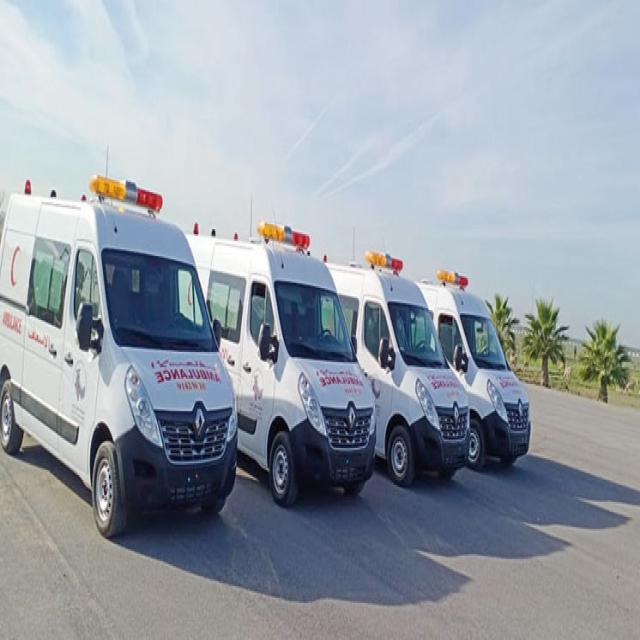ambulance: (0, 166, 241, 552), (184, 190, 383, 526), (322, 225, 474, 498), (416, 256, 539, 483)
